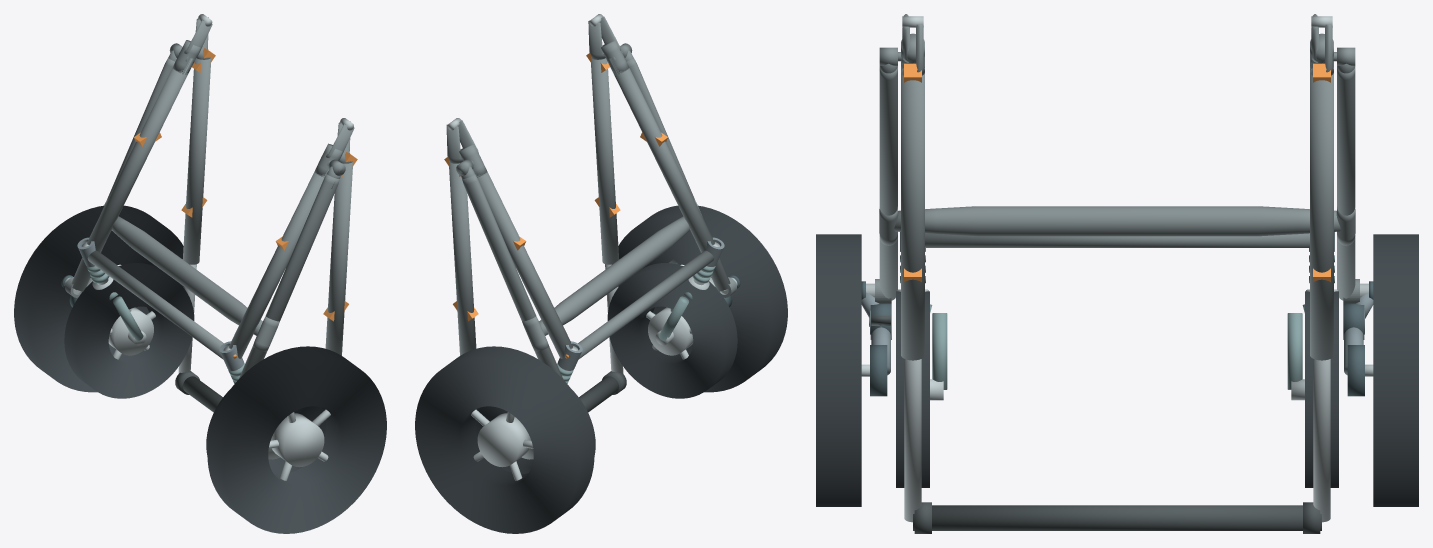
Rendered from w650_state3.glb.
The picture shows the model from 3 angles, left to right: view 1: azimuth 30°, elevation 25°; view 2: azimuth 150°, elevation 25°; view 3: azimuth 270°, elevation 25°; orthographic projection. The views are drawn at different scales.
Visible parts, largest first — view 1: RL_tire.011, RR_tire.011, FR_tire.011, main_upper_1.012, main_lower_1.012, V46_rearbar.011, main_lower_-1.012, main_upper_-1.012, V46_rear_leg_-1.011, front_fixed_round_tube.011, RL_sealed_hub.011, V46_rear_leg_1.011 (+6 smaller); view 2: RR_tire.011, FL_tire.011, RL_tire.011, main_upper_-1.012, main_lower_-1.012, V46_rearbar.011, main_lower_1.012, main_upper_1.012, V46_rear_leg_1.011, front_fixed_round_tube.011, RR_sealed_hub.011, V46_rear_leg_-1.011 (+9 smaller); view 3: RL_tire.011, RR_tire.011, V46_rearbar.011, round_handle.013, main_upper_1.012, main_upper_-1.012, front_fixed_round_tube.011, V46_rear_leg_1.011, V46_rear_leg_-1.011, FL_tire.011, FR_tire.011, handle_slider_1.013 (+5 smaller).
Boxes of the visible parts, x1,y1,x2,y2 form: RL_tire.011: [207, 346, 386, 533]; RR_tire.011: [14, 205, 183, 392]; FR_tire.011: [64, 263, 194, 398]; main_upper_1.012: [182, 58, 210, 264]; main_lower_1.012: [87, 58, 193, 252]; V46_rearbar.011: [111, 216, 262, 335]; main_lower_-1.012: [229, 169, 328, 358]; main_upper_-1.012: [325, 162, 352, 355]; V46_rear_leg_-1.011: [239, 174, 339, 378]; front_fixed_round_tube.011: [87, 250, 223, 359]; RL_sealed_hub.011: [271, 413, 324, 467]; V46_rear_leg_1.011: [71, 58, 174, 291]; RR_tire.011: [415, 346, 594, 533]; FL_tire.011: [607, 263, 737, 398]; RL_tire.011: [618, 205, 787, 392]; main_upper_-1.012: [591, 58, 619, 264]; main_lower_-1.012: [608, 58, 714, 252]; V46_rearbar.011: [539, 216, 690, 335]; main_lower_1.012: [473, 169, 572, 358]; main_upper_1.012: [449, 162, 476, 355]; V46_rear_leg_1.011: [462, 174, 562, 378]; front_fixed_round_tube.011: [578, 250, 714, 359]; RR_sealed_hub.011: [477, 413, 530, 467]; V46_rear_leg_-1.011: [627, 58, 730, 291]; RL_tire.011: [816, 234, 861, 506]; RR_tire.011: [1373, 234, 1418, 506]; V46_rearbar.011: [894, 206, 1340, 236]; round_handle.013: [913, 505, 1321, 530]; main_upper_1.012: [1310, 73, 1333, 360]; main_upper_-1.012: [901, 73, 924, 360]; front_fixed_round_tube.011: [925, 233, 1309, 247]; V46_rear_leg_1.011: [1337, 66, 1355, 300]; V46_rear_leg_-1.011: [879, 66, 897, 300]; FL_tire.011: [896, 291, 929, 487]; FR_tire.011: [1305, 291, 1338, 487]; handle_slider_1.013: [1313, 359, 1330, 522].
Bounding box in the file's own units: 0.3628 × 0.7726 × 0.796.
